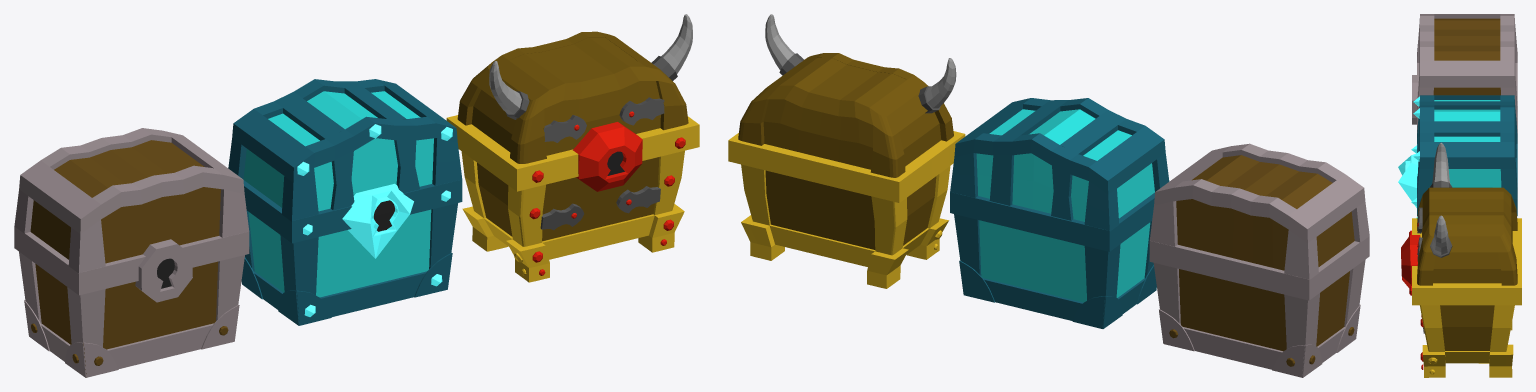
Rendered from kutu.fbx.
The picture shows the model from 3 angles, left to right: view 1: azimuth 30°, elevation 25°; view 2: azimuth 150°, elevation 25°; view 3: azimuth 270°, elevation 25°; orthographic projection. The views are drawn at different scales.
Parts seen in each view (by area): view 1: zumrut, Cube, kapak, kapak.001, kutu, BOYNUZ; view 2: zumrut, Cube, kapak, kapak.001, kutu, BOYNUZ; view 3: BOYNUZ, zumrut, kapak.001, kapak, kutu, Cube.
Part boxes in pixels (box(x1,y1,x2,y2)): zumrut: box(446, 115, 699, 282); Cube: box(14, 226, 249, 377); kapak: box(14, 128, 249, 273); kapak.001: box(228, 79, 462, 221); kutu: box(241, 179, 462, 325); BOYNUZ: box(457, 14, 692, 163); zumrut: box(728, 131, 965, 288); Cube: box(1149, 236, 1369, 377); kapak: box(1149, 143, 1369, 279); kapak.001: box(950, 98, 1169, 231); kutu: box(950, 192, 1156, 328); BOYNUZ: box(738, 14, 956, 177); BOYNUZ: box(1417, 142, 1517, 285); zumrut: box(1401, 218, 1521, 377); kapak.001: box(1413, 95, 1517, 199); kapak: box(1417, 14, 1517, 117); kutu: box(1398, 144, 1517, 218); Cube: box(1412, 63, 1517, 132).
Size of the model in its own units: 1191 by 397 by 260.
